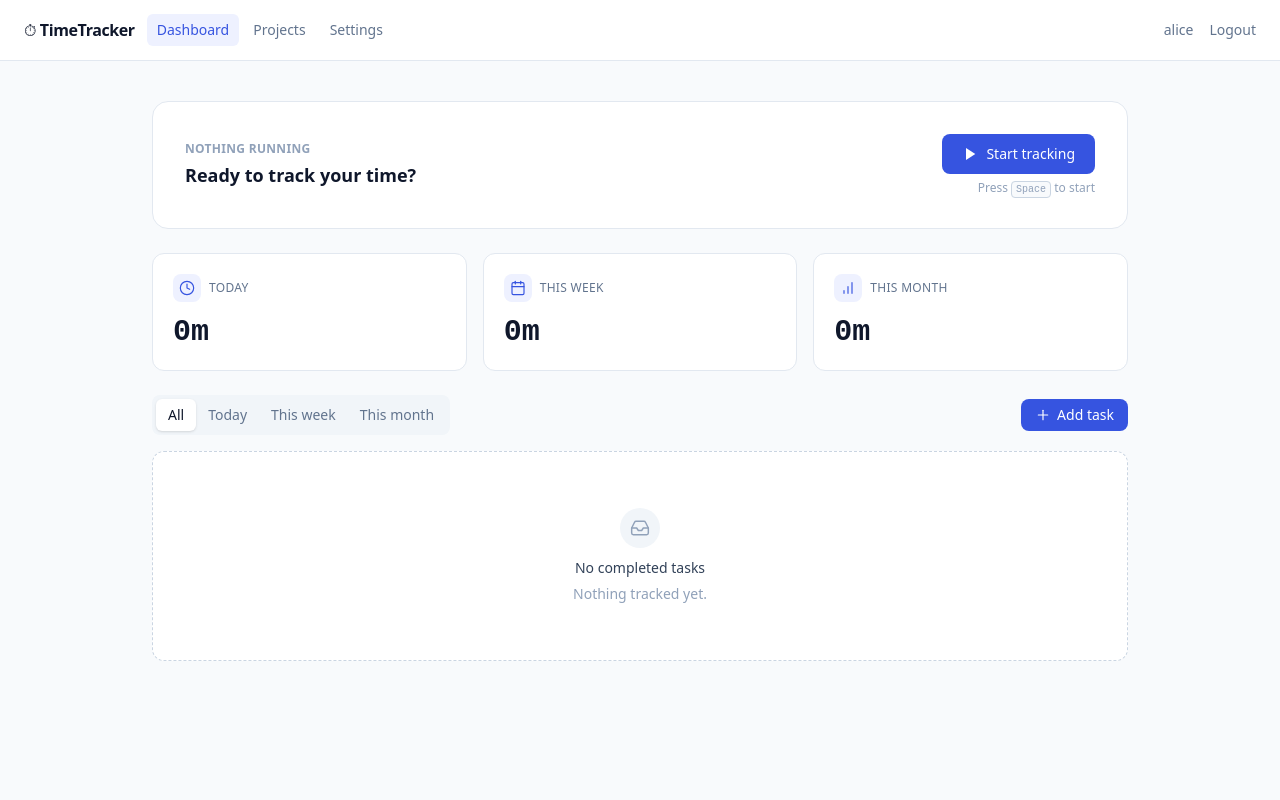
Test: App › transitions back to LoginPage after logout
Step 1. Click the button with test id "logout-button" → (1233, 30), box [1209, 20, 1256, 40]
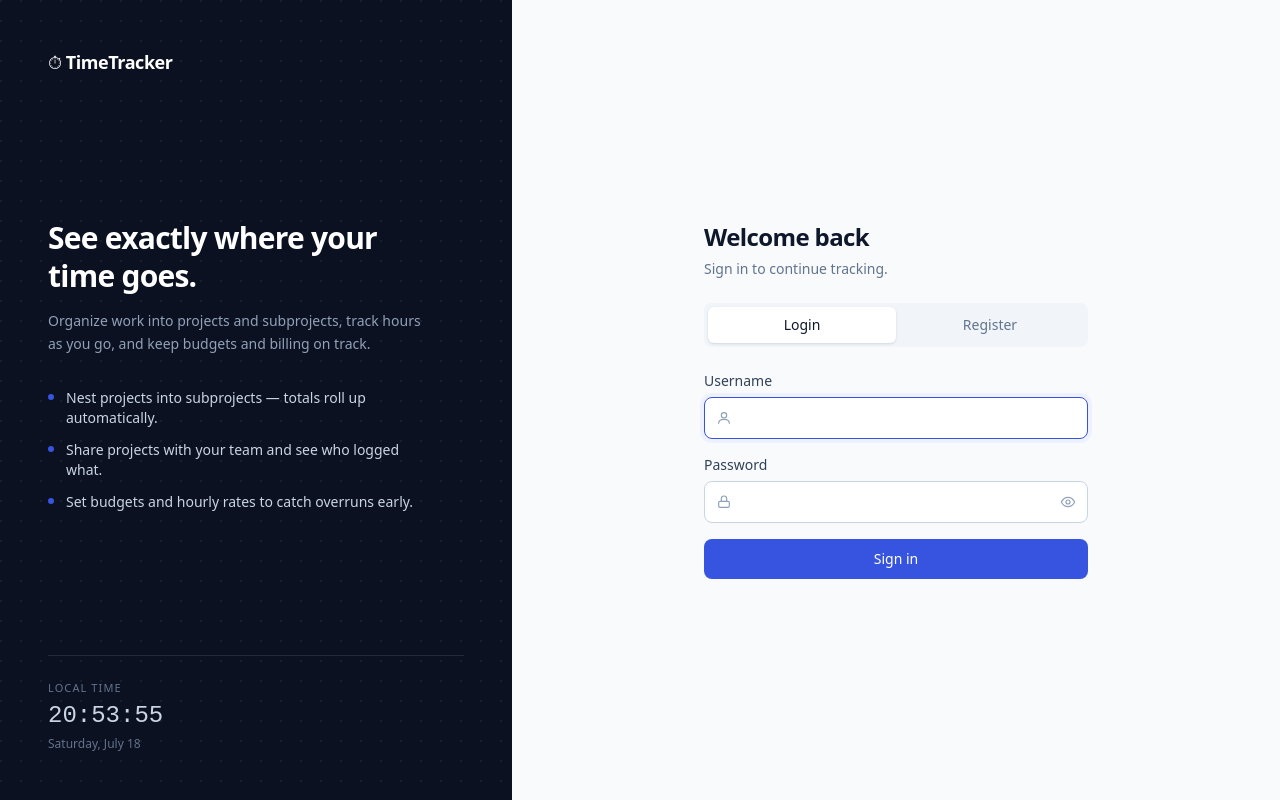
expect the tab with test id "tab-login" is shown: met, box [708, 307, 896, 343]
